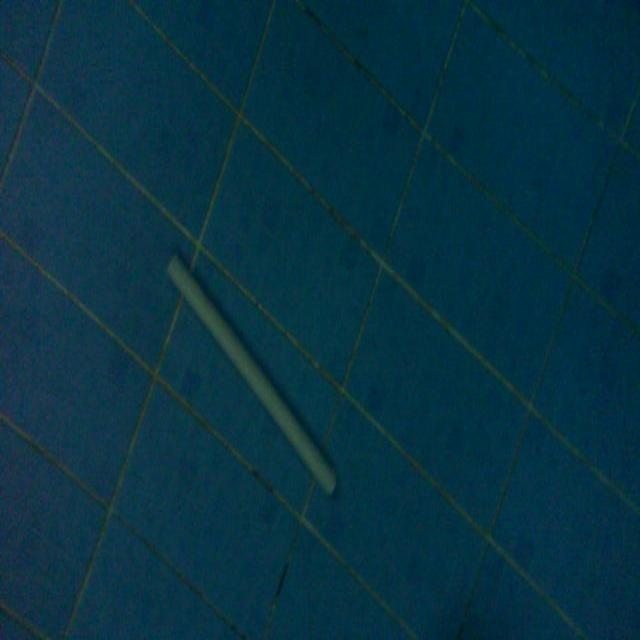Cube: (164, 246, 339, 500)
